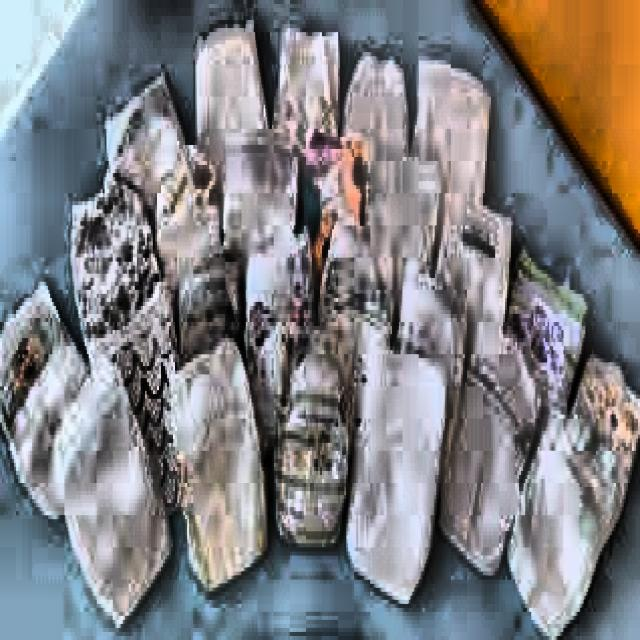trash: (511, 358, 640, 636), (58, 366, 174, 627), (345, 339, 448, 604), (439, 321, 539, 578), (414, 59, 505, 340), (104, 74, 218, 290), (0, 283, 91, 540), (176, 354, 269, 592), (72, 170, 167, 402), (340, 54, 419, 304), (274, 331, 351, 550), (191, 24, 274, 226), (245, 225, 318, 453), (272, 29, 345, 250), (317, 217, 391, 418), (393, 264, 467, 462), (506, 247, 590, 421)
